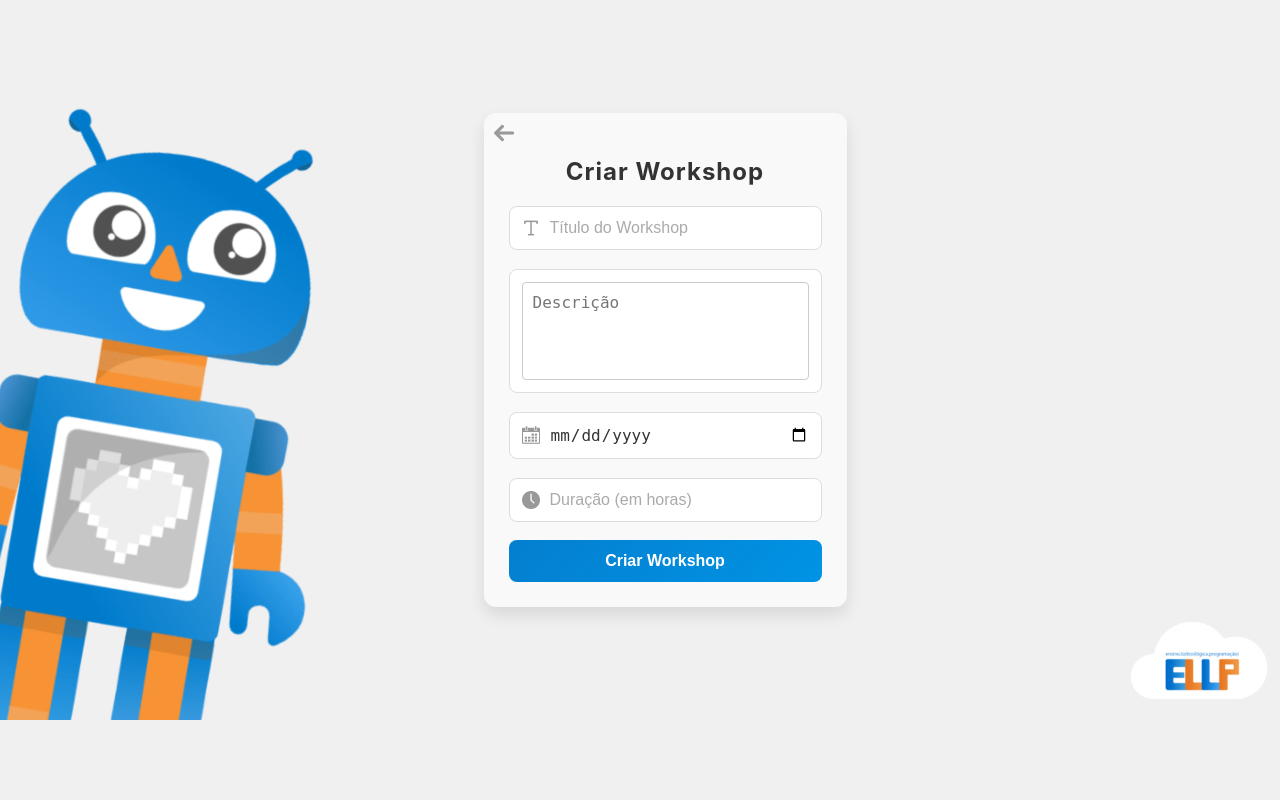
Test case: Testes de Cadastro de Workshop › Deve exibir mensagem de erro se a duração for inválida
Preenche os campos com uma duração inválida
Type "Workshop com duração inválida" into the field with placeholder "Título do Workshop" at (680, 228), box 550,219 -> 809,237
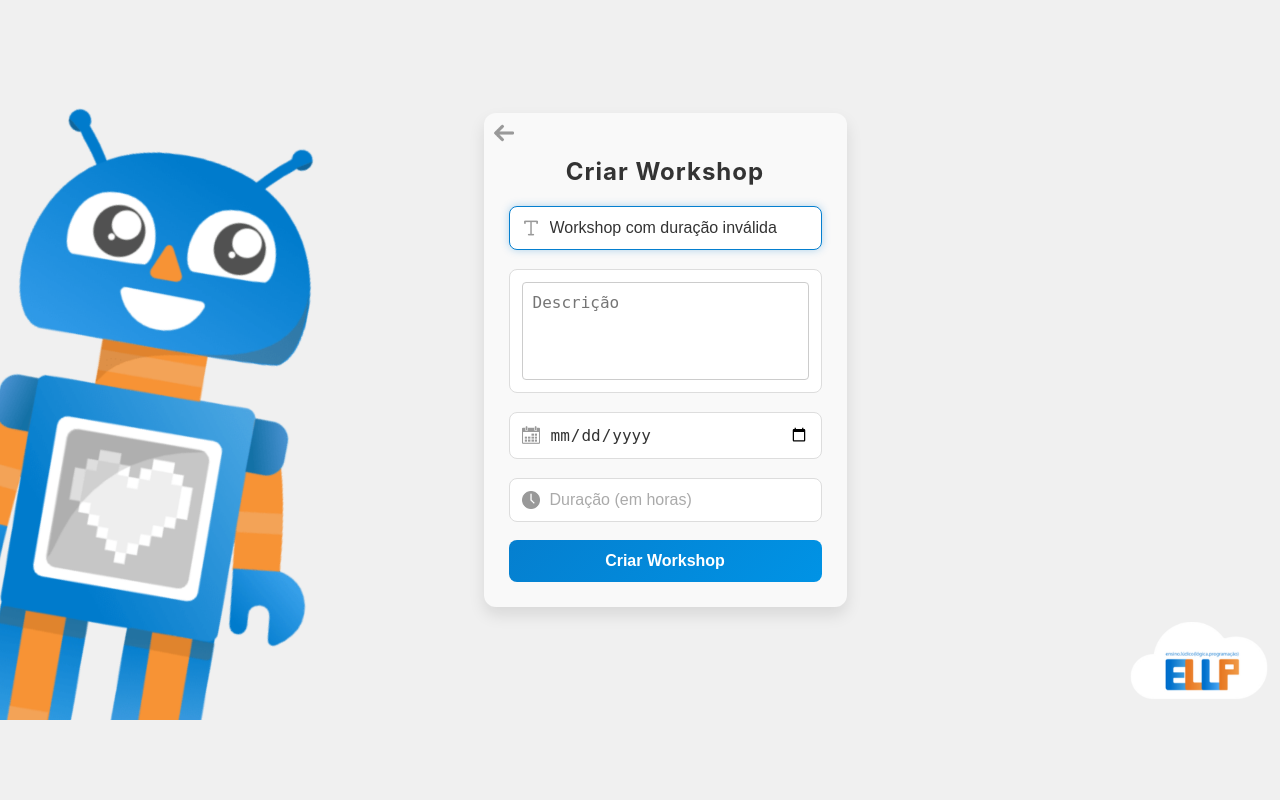
Type "Este workshop tem duração inválida." into the text box with placeholder "Descrição" at (666, 331), box 522,282 -> 809,380
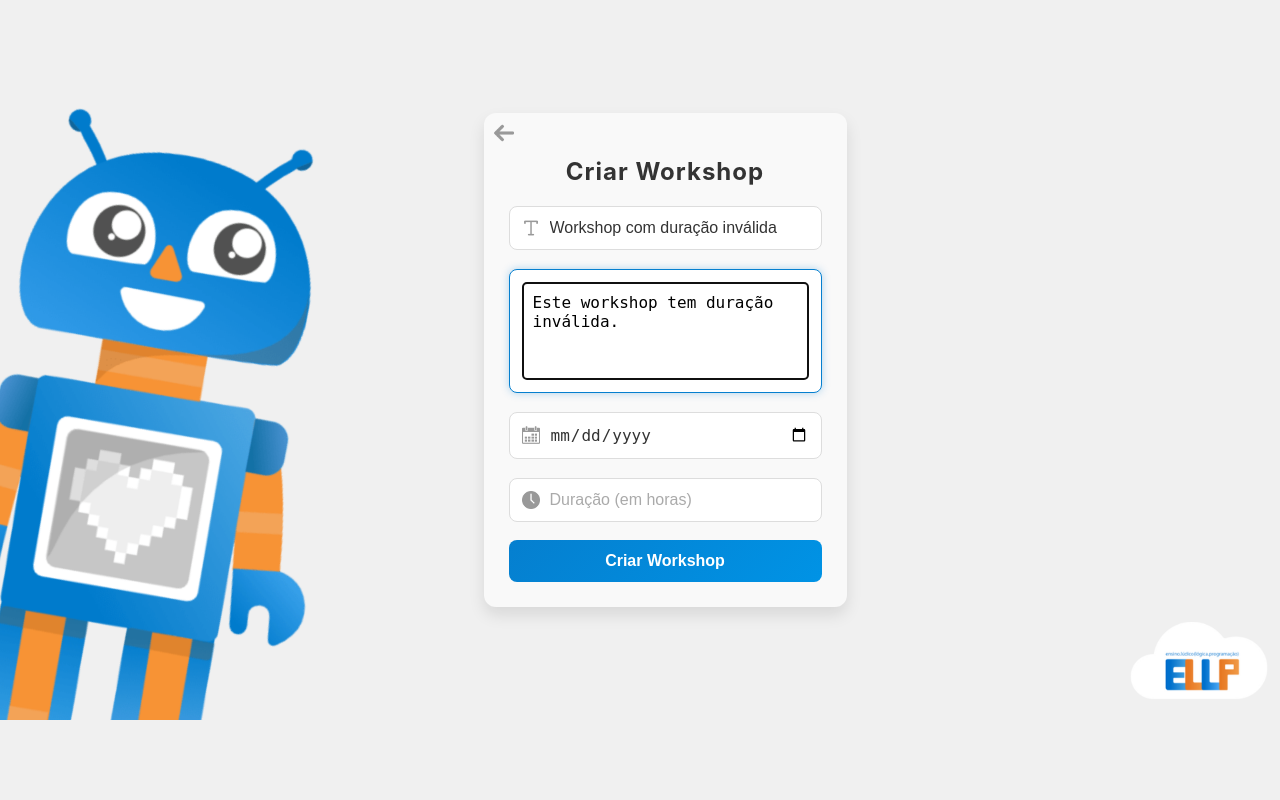
Type "2024-12-31" into the date field with placeholder "Data do Workshop" at (680, 436), box 550,425 -> 809,446
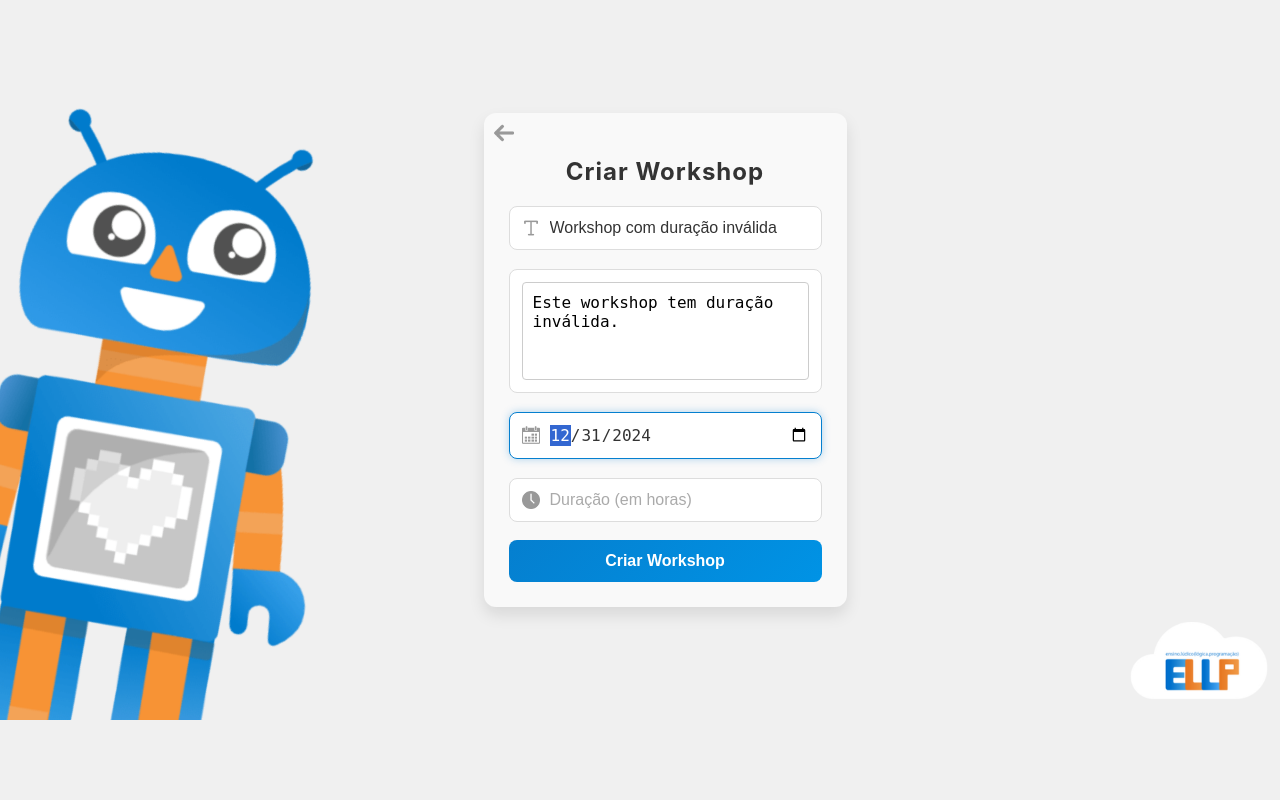
Type "-2" into the field with placeholder "Duração (em horas)" at (680, 500), box 550,491 -> 809,509
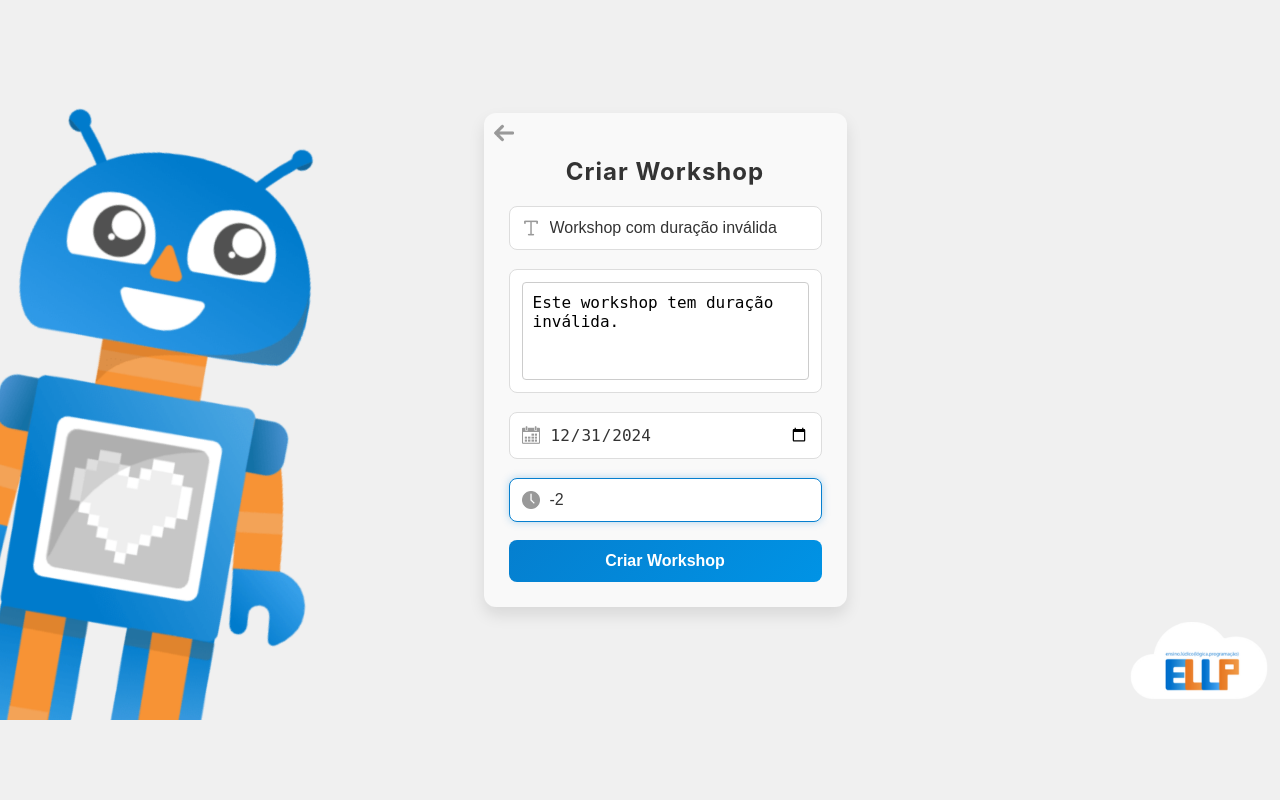
Clica no botão de envio
Click the submit button at (666, 562), box 509,541 -> 822,583
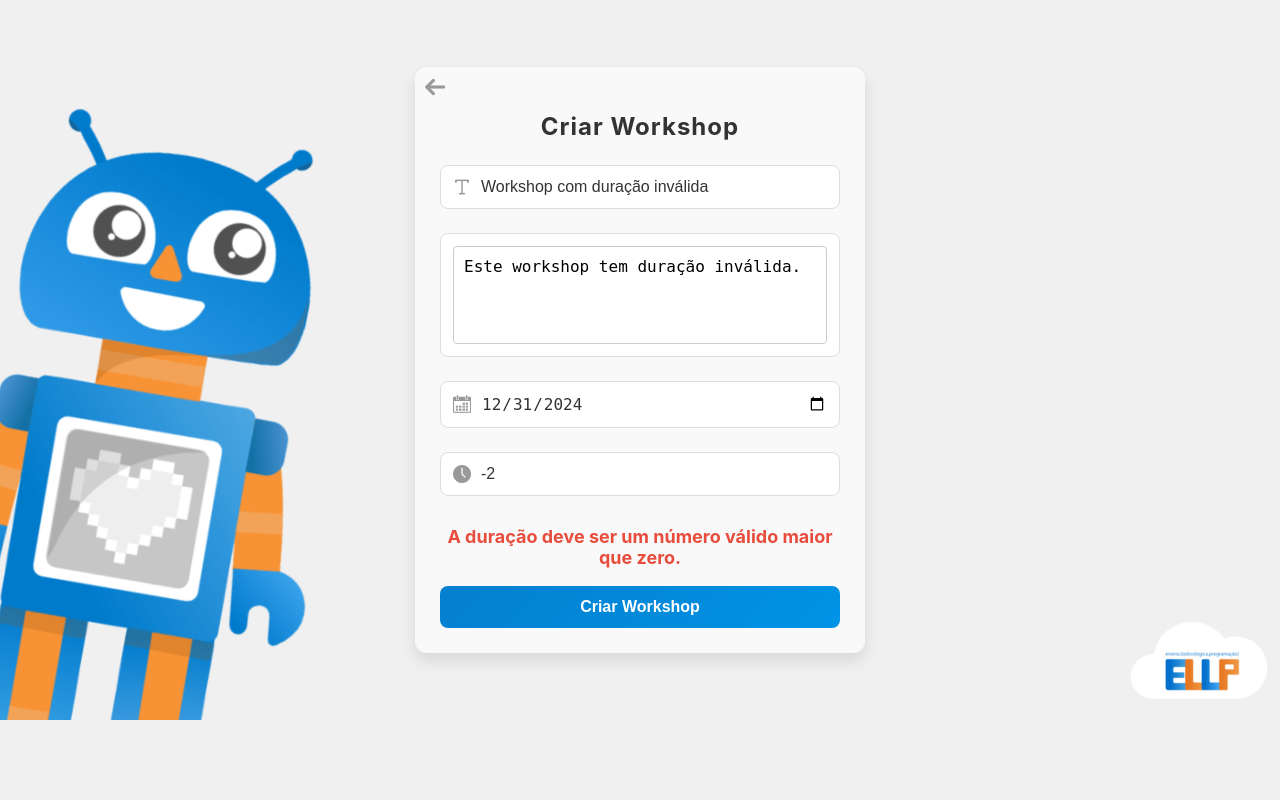
Check: the text "A duração deve ser um número válido maior que zero." is shown, box 440,526 -> 840,568
